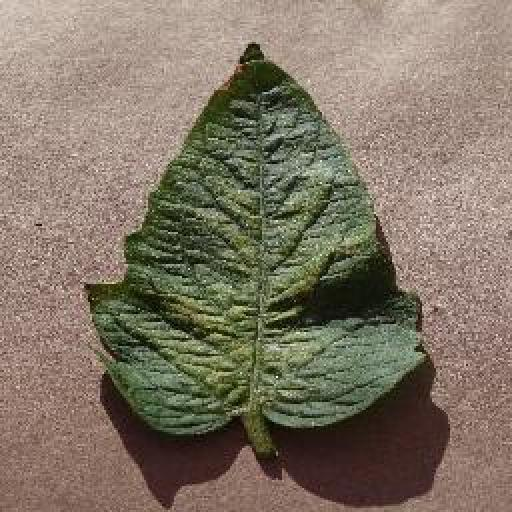disease_tomato: (87, 38, 429, 434)
